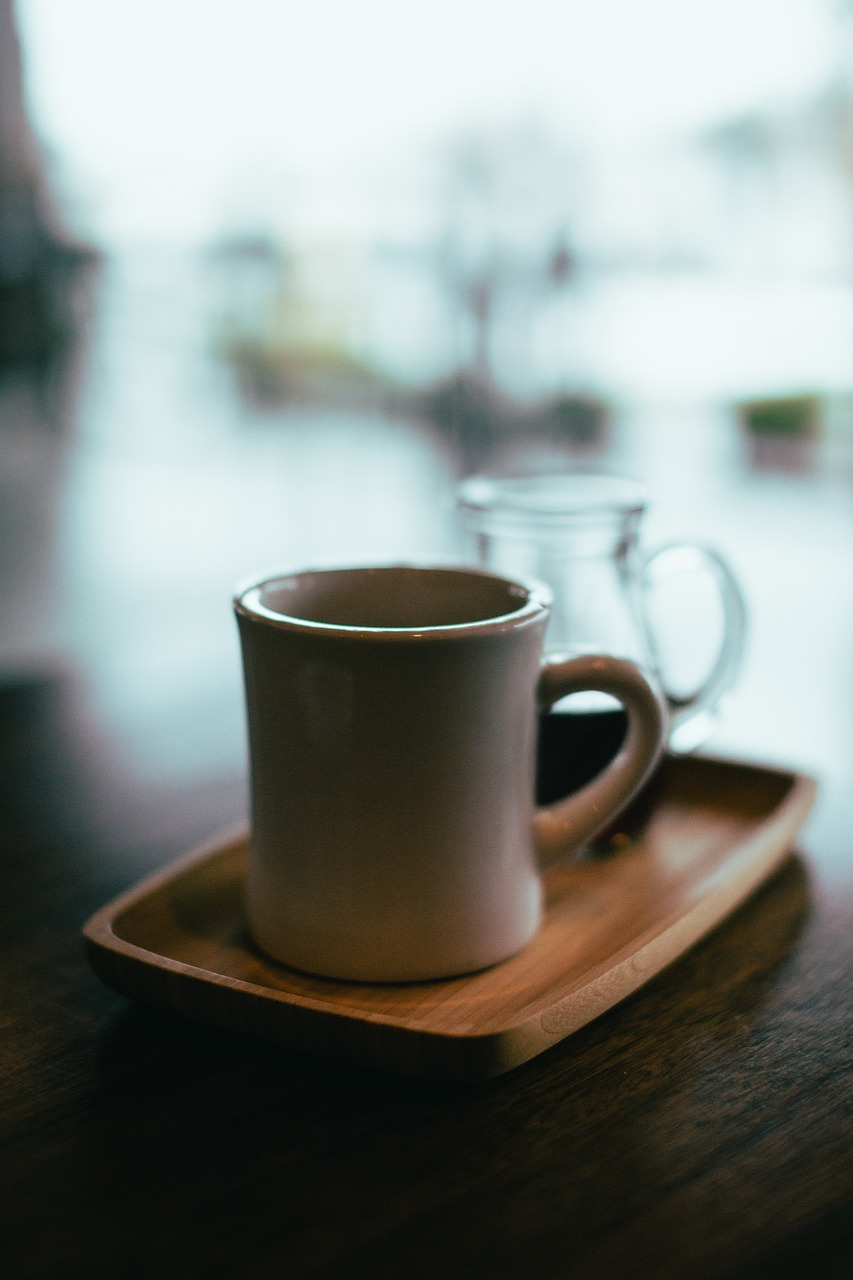mug: (158, 492, 691, 1025)
